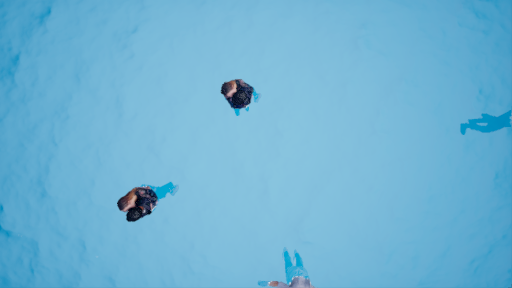person: (115, 186, 181, 224), (218, 77, 259, 116)
